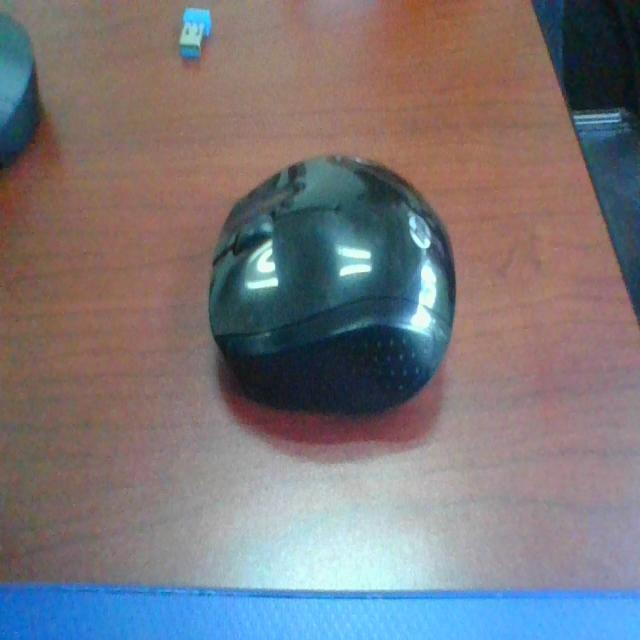Mouse: (201, 166, 478, 400)
